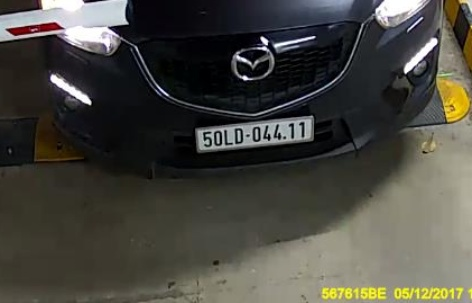plate: (183, 104, 322, 155)
